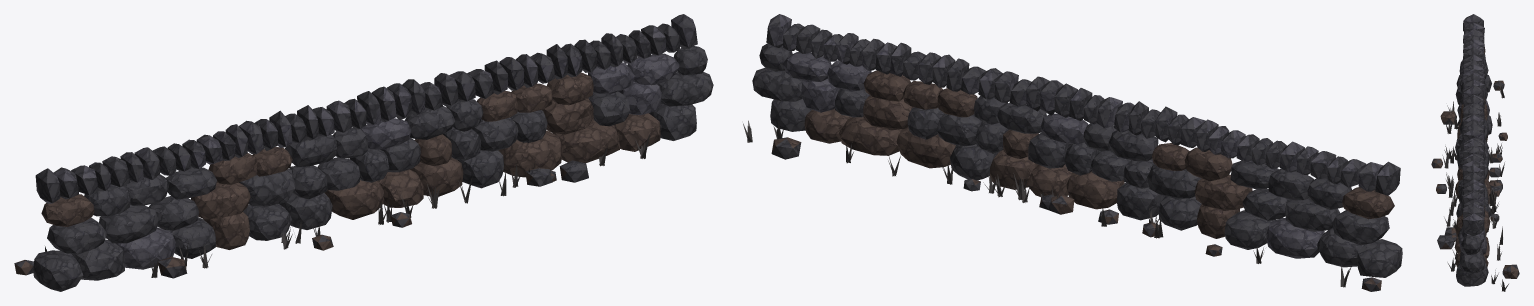
File: vorthak_charred_wall.glb
The picture shows the model from 3 angles, left to right: view 1: azimuth 30°, elevation 25°; view 2: azimuth 150°, elevation 25°; view 3: azimuth 270°, elevation 25°; orthographic projection. The views are drawn at different scales.
Parts seen in each view (by area): view 1: DryStoneWall, DryStoneWallTurf; view 2: DryStoneWall, DryStoneWallTurf; view 3: DryStoneWall, DryStoneWallTurf.
Boxes of the visible parts, x1,y1,x2,y2 form: DryStoneWall: (14,14,713,291); DryStoneWallTurf: (45,132,650,277); DryStoneWall: (752,14,1402,291); DryStoneWallTurf: (743,120,1351,287); DryStoneWall: (1431,14,1519,286); DryStoneWallTurf: (1442,81,1508,291).
Bounding box in the file's own units: 9.1 × 1.58 × 1.61.
4 materials, 3 textured.
